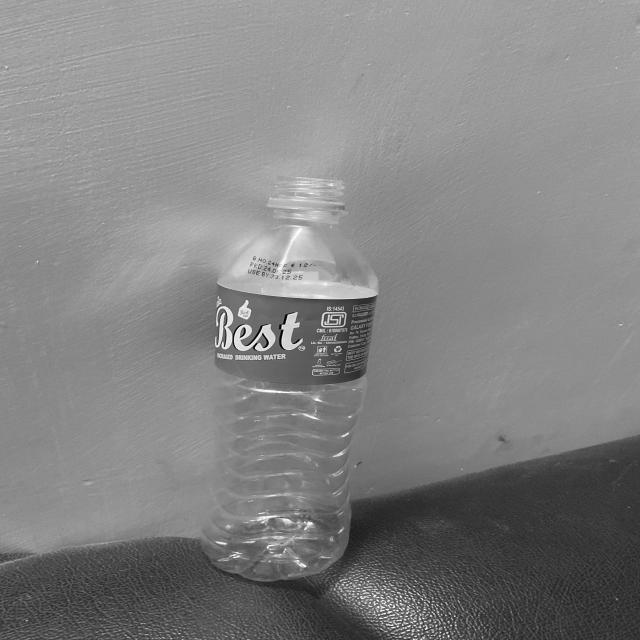open-cap: (263, 178, 351, 220)
